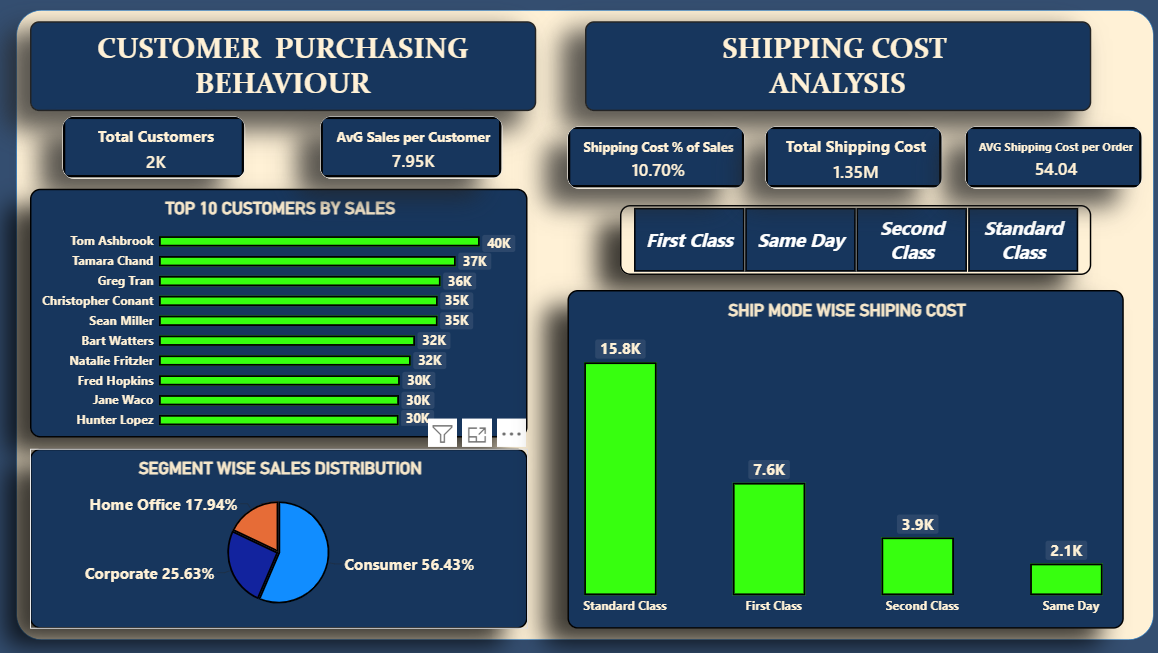

Layout of this report page (visuals, bound fields, positions):
{"tool":"powerbi","page":{"name":"Purchasing behaviour  and shipping analysis shipping","canvas":[1920,1080],"ordinal":2},"visuals":[{"type":"shape","box":[26.8,16.5,1873.1,1037.4],"z":0},{"type":"cardVisual","fields":{"Data":["Global_Superstore2.Shipping Cost % of Sales"]},"box":[934.5,207.9,292.3,102.9],"z":0,"group":"g1"},{"type":"textbox","box":[49.4,35,833.6,148.2],"z":1000},{"type":"cardVisual","fields":{"Data":["Global_Superstore2.Total Shipping Cost"]},"box":[1259.7,207.9,292.3,102.9],"z":1000,"group":"g1"},{"type":"cardVisual","fields":{"Data":["Global_Superstore2.Total Customers"]},"box":[102.9,191.4,300.5,102.9],"z":2000},{"type":"cardVisual","fields":{"Data":["Global_Superstore2.AVG Shipping Cost per Order"]},"box":[1589,207.9,292.3,102.9],"z":2000,"group":"g1"},{"type":"clusteredBarChart","title":"TOP 10 CUSTOMERS BY SALES","fields":{"Category":["Global_Superstore2.Customer Name"],"Y":["Global_Superstore2.Total Sales"]},"box":[49.4,310.8,819.2,409.6],"z":3000},{"type":"pieChart","title":"SEGMENT WISE SALES DISTRIBUTION","fields":{"Category":["Global_Superstore2.Segment"],"Y":["Global_Superstore2.Total Sales"]},"box":[49.4,738.9,819.2,296.4],"z":4000},{"type":"textbox","box":[963.3,35,833.6,148.2],"z":5000},{"type":"slicer","title":"MONTHLY SALES TREND","fields":{"Values":["Global_Superstore2.Ship Mode"]},"box":[1020.9,337.6,776,115.3],"z":6000},{"type":"columnChart","title":" SHIPING COST","fields":{"Category":["Global_Superstore2.Ship Mode"],"Y":["Global_Superstore2.Total Shipping Cost"]},"box":[934.5,477.5,916,557.8],"z":7000},{"type":"cardVisual","fields":{"Data":["Global_Superstore2.AvG Sales per Customer"]},"box":[526.9,191.4,300.5,102.9],"z":8000},{"type":"group","id":"g1","title":"Group 1","box":[934.5,207.9,946.8,102.9],"z":9000}]}

Visuals, with their boxes in screenshot pixels (x1, y1, x2, y2), scaled from the page's 1920x1080 canvas onto the 1158x653 screenshot:
shape: select_region(16, 10, 1146, 637)
cardVisual - Global_Superstore2.Shipping Cost % of Sales: select_region(564, 126, 740, 188)
textbox: select_region(30, 21, 533, 111)
cardVisual - Global_Superstore2.Total Shipping Cost: select_region(760, 126, 936, 188)
cardVisual - Global_Superstore2.Total Customers: select_region(62, 116, 243, 178)
cardVisual - Global_Superstore2.AVG Shipping Cost per Order: select_region(958, 126, 1135, 188)
"TOP 10 CUSTOMERS BY SALES" clusteredBarChart: select_region(30, 188, 524, 436)
"SEGMENT WISE SALES DISTRIBUTION" pieChart: select_region(30, 447, 524, 626)
textbox: select_region(581, 21, 1084, 111)
"MONTHLY SALES TREND" slicer: select_region(616, 204, 1084, 274)
" SHIPING COST" columnChart: select_region(564, 289, 1116, 626)
cardVisual - Global_Superstore2.AvG Sales per Customer: select_region(318, 116, 499, 178)
"Group 1" group: select_region(564, 126, 1135, 188)
